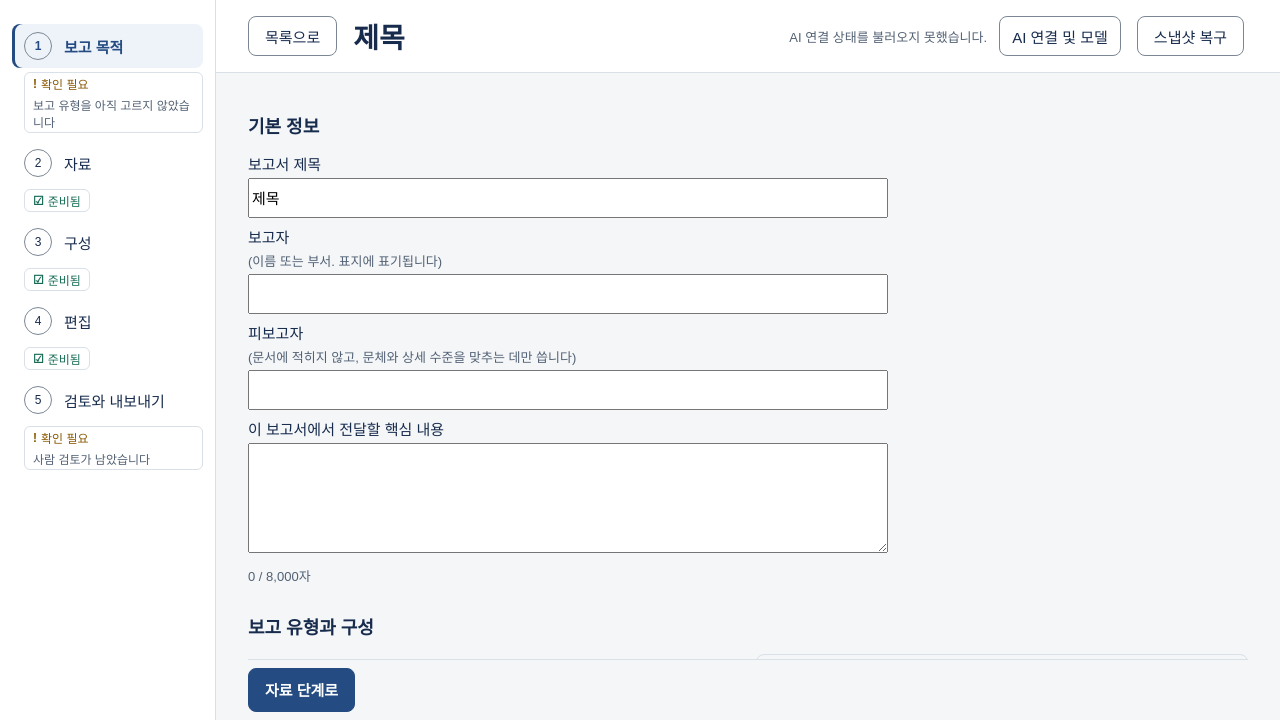
it: 상단 머리의 저장 상태 출처 (계획 4.1 표) › 편집: 자동 저장 상태를 그대로 보인다
Click the button "4 편집" at [108, 321], box [12,299,203,343]
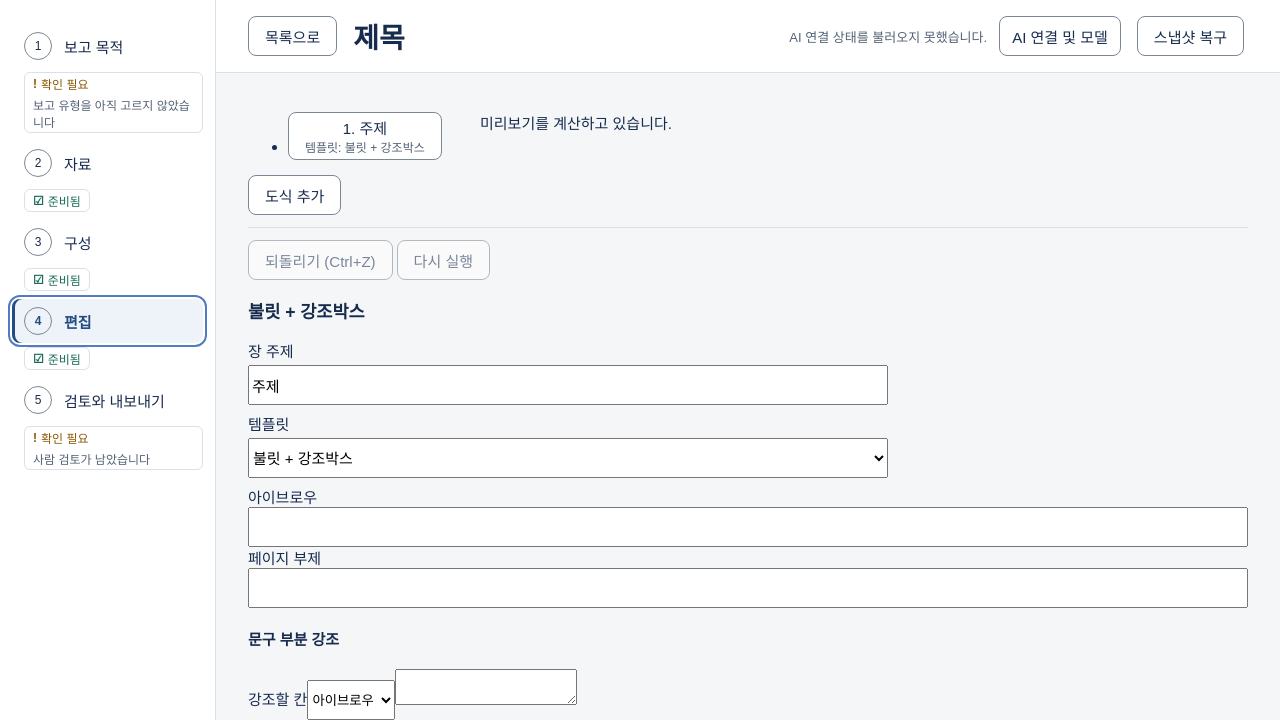
Replace the text in the field labelled "장 주제" with "고침" at [568, 385], box [248,365,888,405]
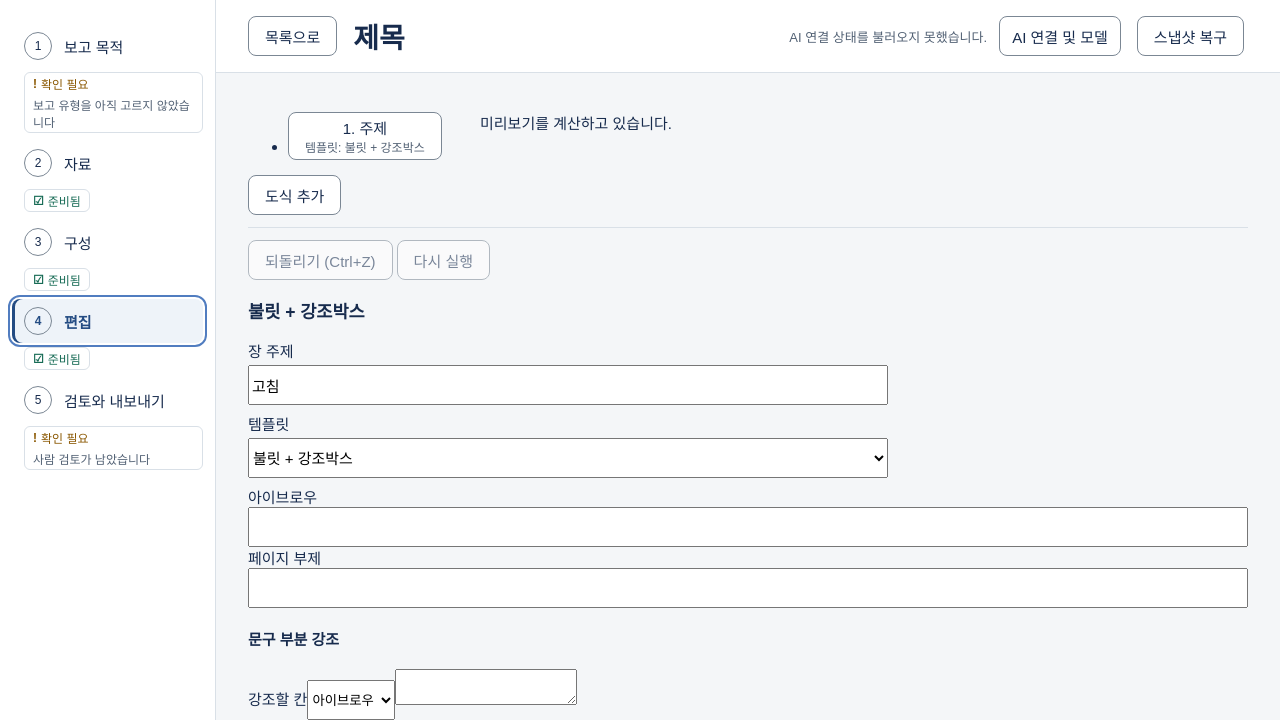
Leave the field labelled "장 주제", box [248,365,888,405]
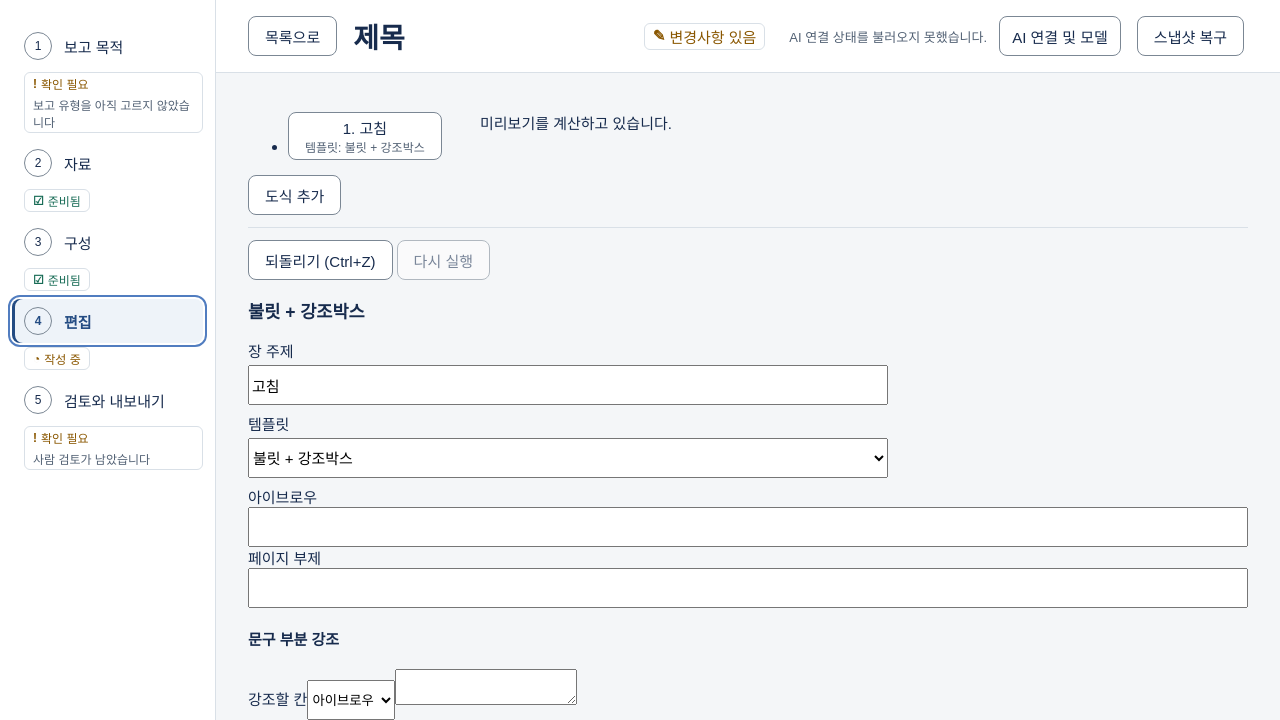
Now the text with class "status-label" reads "변경사항 있음", box [669,28,756,46]
